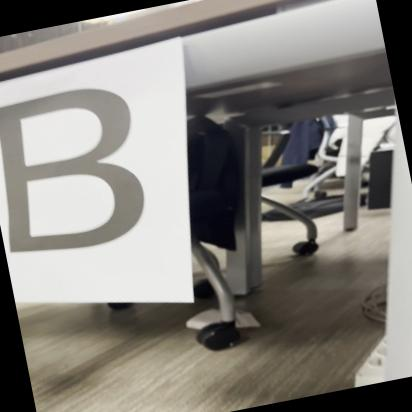seat: (0, 69, 174, 269)
